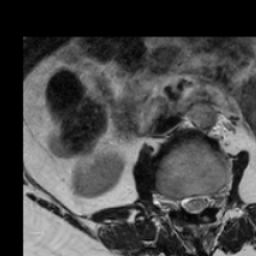CCS_stenosis: (190, 186, 199, 223)
LFS_normal: (209, 186, 219, 217)
LLS_normal: (201, 188, 209, 217)
RFS_normal: (168, 191, 180, 216)
RLS_normal: (180, 189, 188, 217)
